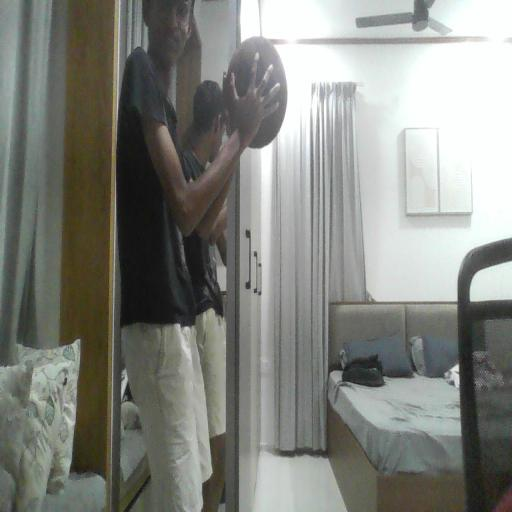basketball: (228, 37, 287, 148)
